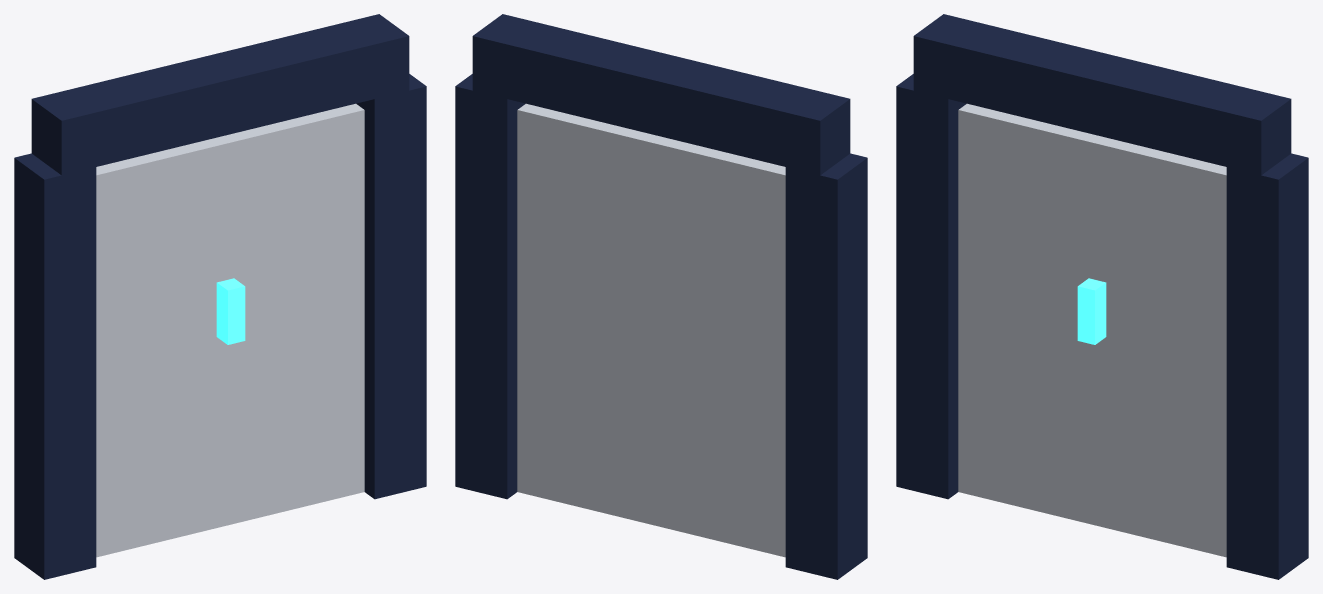
Rendered from stationpack-sliding-door.glb.
3 renders of one model, left to right at view 1: azimuth 30°, elevation 25°; view 2: azimuth 150°, elevation 25°; view 3: azimuth 330°, elevation 25°, orthographic.
Parts seen in each view (by area): view 1: sliding_door; view 2: sliding_door; view 3: sliding_door.
Boxes of the visible parts, x1,y1,x2,y2 form: sliding_door: (14,14,426,579); sliding_door: (455,14,867,579); sliding_door: (896,14,1308,579).
Bounding box in the file's own units: 2.2 × 2.5 × 0.31.
